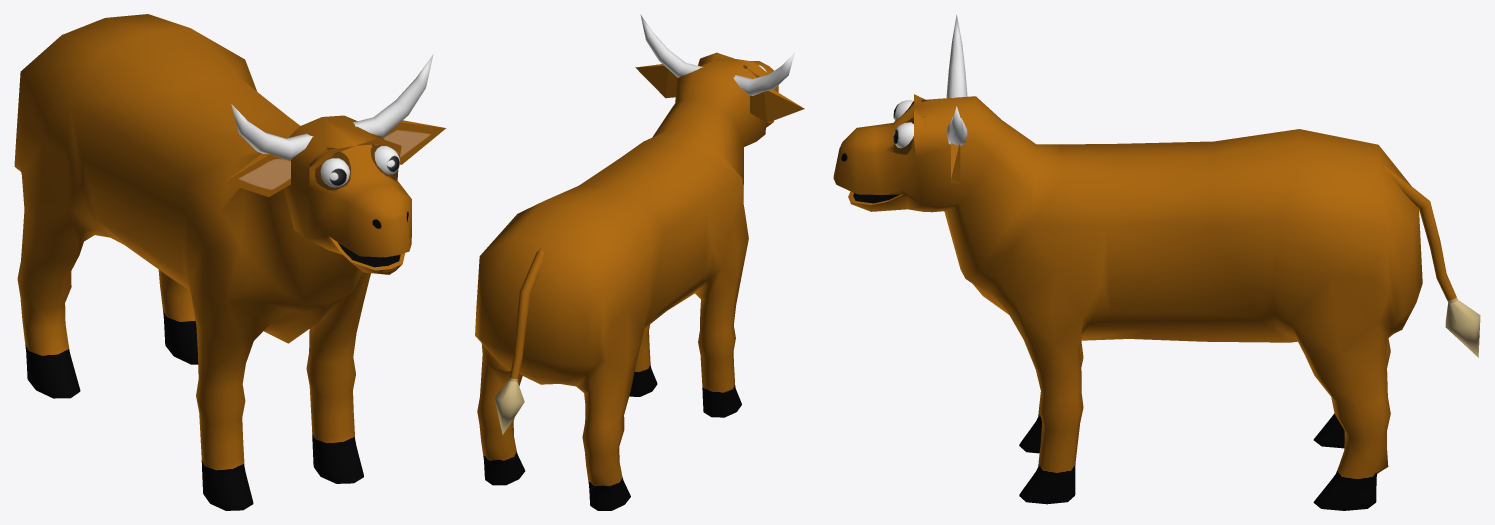
The model's file is cow.FBX.
The picture shows the model from 3 angles, left to right: view 1: azimuth 30°, elevation 25°; view 2: azimuth 150°, elevation 25°; view 3: azimuth 270°, elevation 25°; orthographic projection. The views are drawn at different scales.
Visible parts, largest first — view 1: body, CowEar_R, CowEar_L, CowEye_R, CowEye_L; view 2: body, tail, CowEar_R, CowEar_L; view 3: body, tail.
Boxes of the visible parts, bbox=[...] form: body: bbox=[14, 14, 433, 510]; CowEar_R: bbox=[224, 153, 290, 197]; CowEar_L: bbox=[382, 120, 445, 164]; CowEye_R: bbox=[320, 158, 349, 187]; CowEye_L: bbox=[374, 146, 400, 174]; body: bbox=[475, 14, 794, 510]; tail: bbox=[494, 246, 543, 434]; CowEar_R: bbox=[750, 89, 804, 122]; CowEar_L: bbox=[635, 64, 677, 98]; body: bbox=[833, 15, 1422, 510]; tail: bbox=[1383, 163, 1480, 357].
Size of the model in its own units: 33.39 by 90.74 by 63.75.
2 materials, 2 textured.
